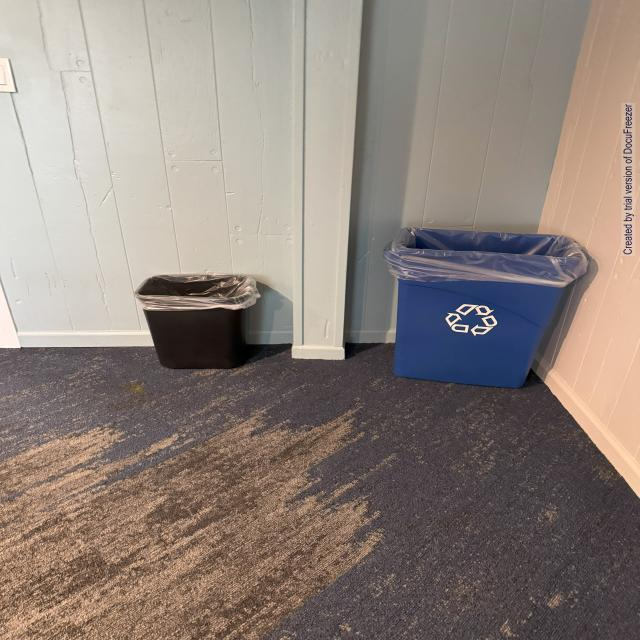Trash bin: (383, 215, 600, 393), (126, 262, 269, 373)
